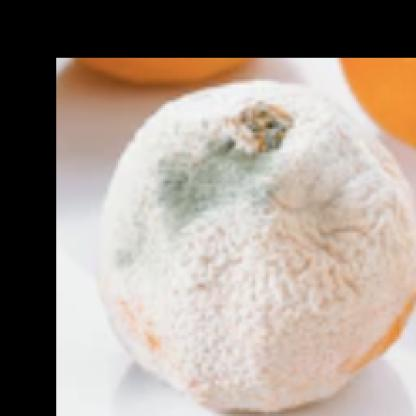rotten: (89, 78, 416, 416)
